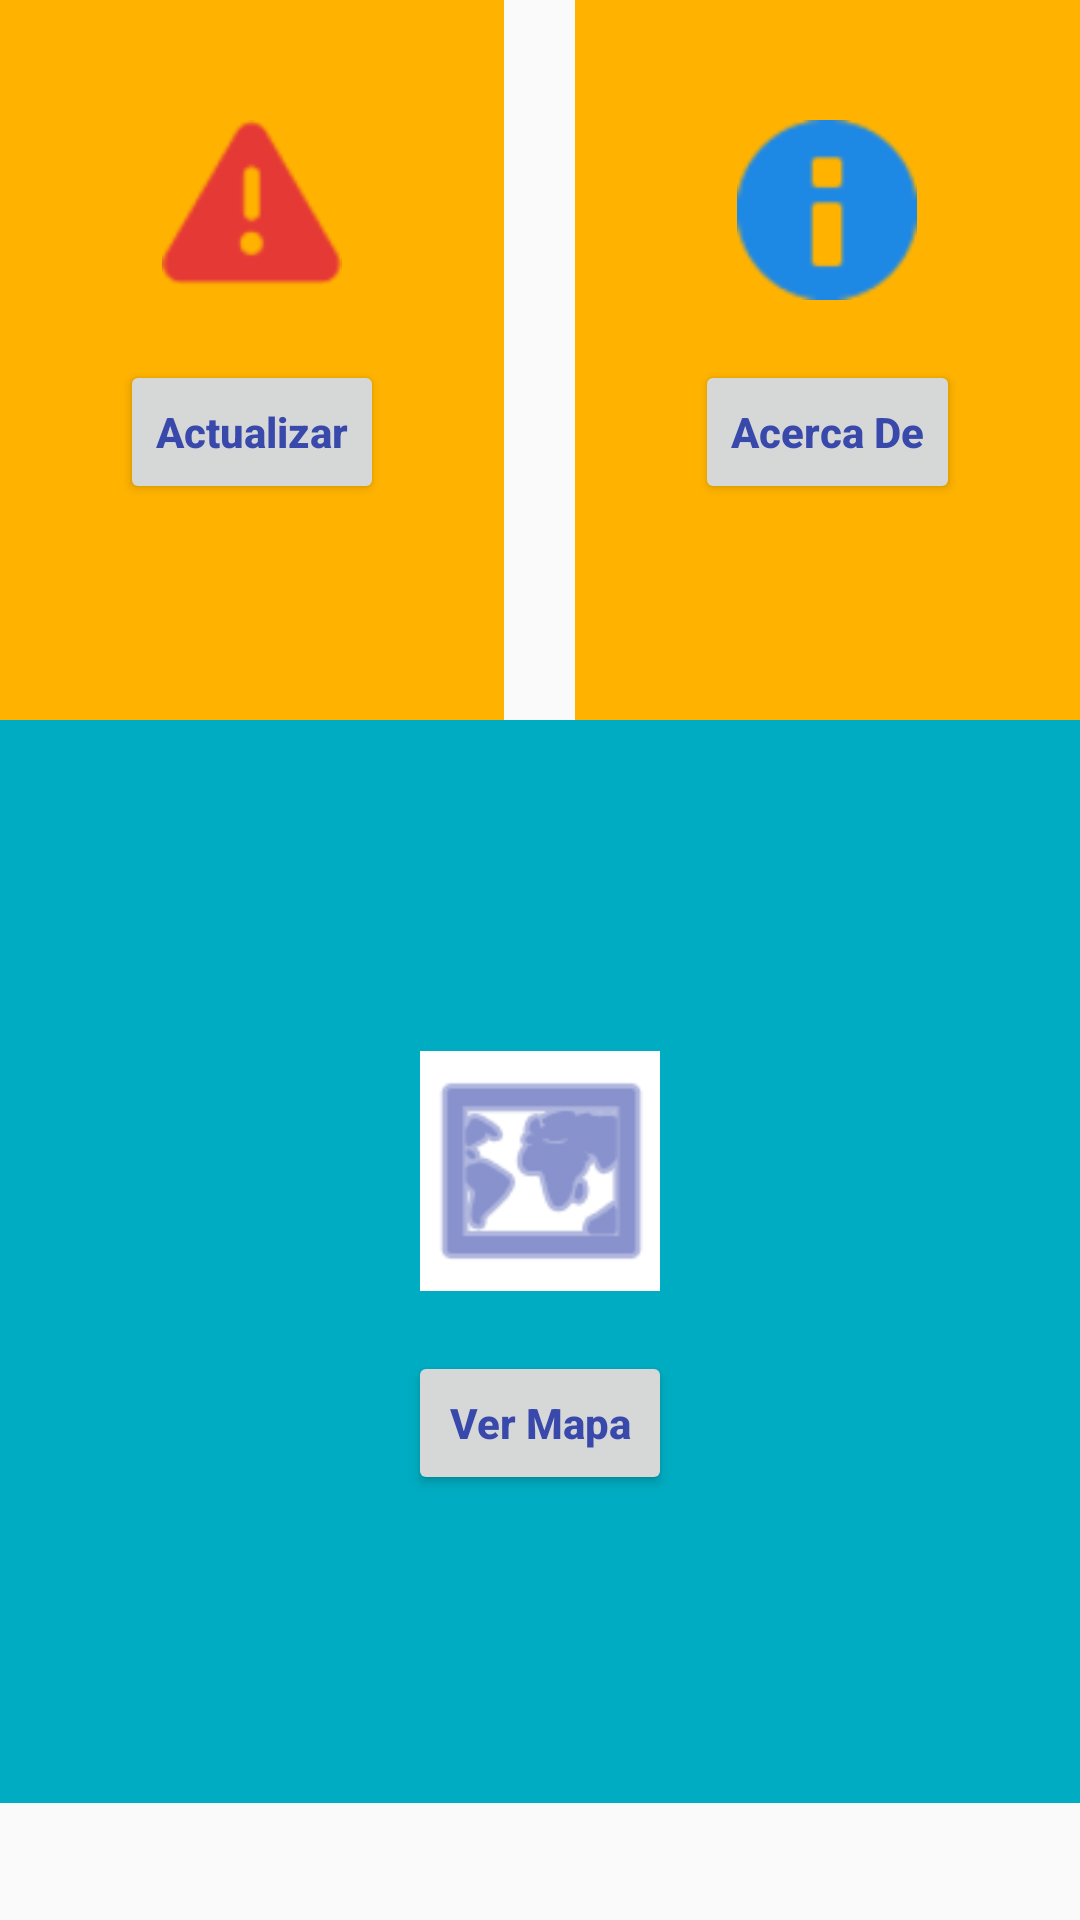

Named icons in this screenshot (1080 x 1920) and their centers, (x=x, y=y):
alert: (x=252, y=203)
info: (x=827, y=210)
mapmode: (x=540, y=1171)
